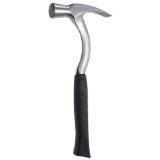hammer: (46, 0, 112, 159)
